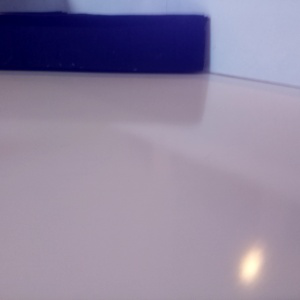zone: (1, 11, 207, 73)
